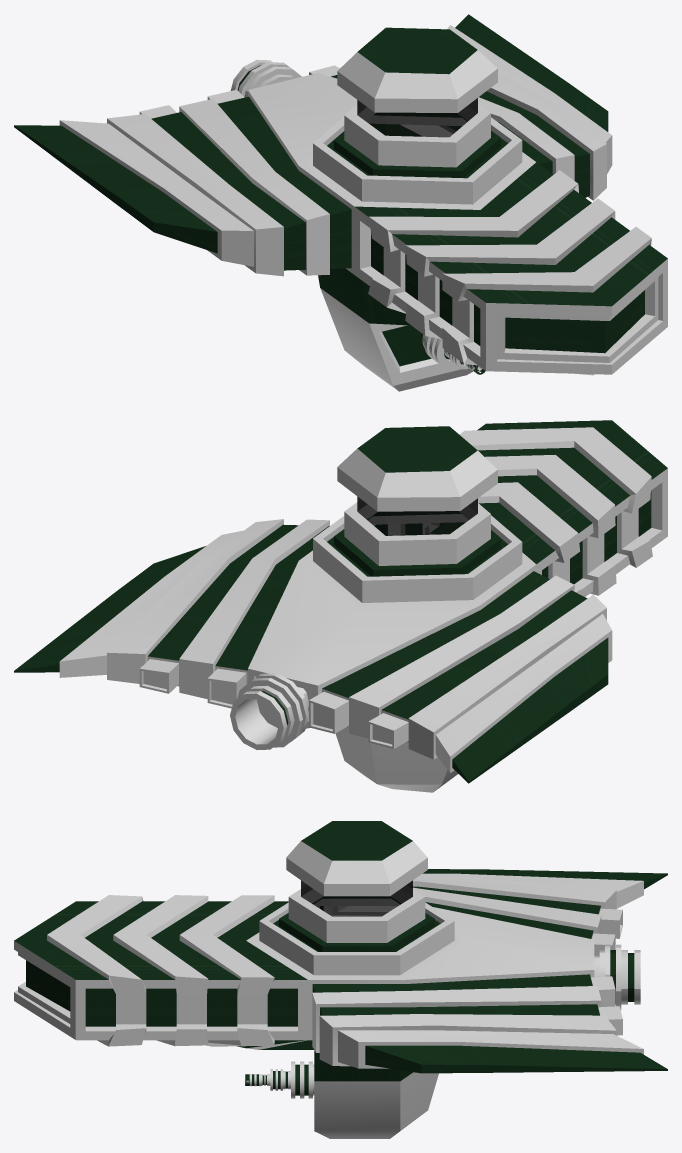
Rendered from DAA.fbx.
3 renders of one model, top to bottom at view 1: azimuth 30°, elevation 25°; view 2: azimuth 150°, elevation 25°; view 3: azimuth 270°, elevation 25°, orthographic. The views are drawn at different scales.
Parts seen in each view (by area): view 1: DAA; view 2: DAA; view 3: DAA.
Part boxes in pixels (box(x1,y1,x2,y2)): DAA: box(14, 14, 667, 391); DAA: box(14, 420, 667, 792); DAA: box(14, 821, 667, 1138).
Size of the model in its own units: 6.01 by 4.06 by 8.49.
